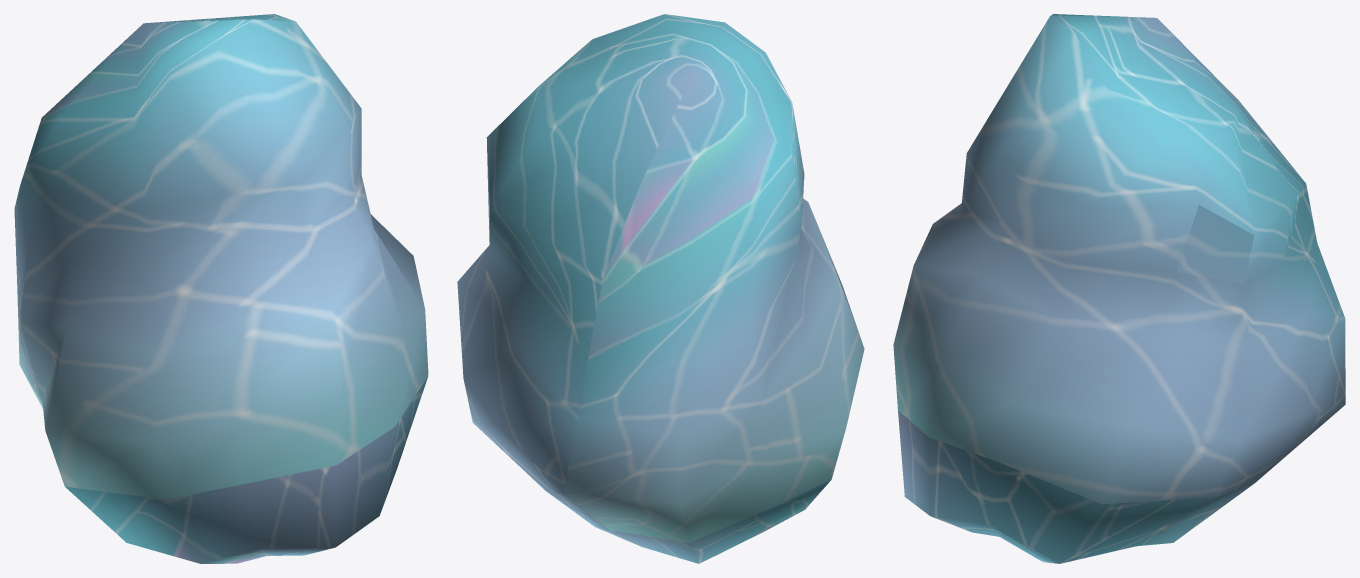
File: rock1.fbx
The picture shows the model from 3 angles, left to right: view 1: azimuth 30°, elevation 25°; view 2: azimuth 150°, elevation 25°; view 3: azimuth 270°, elevation 25°; orthographic projection. The views are drawn at different scales.
Parts seen in each view (by area): view 1: rock1; view 2: rock1; view 3: rock1.
Boxes of the visible parts, x1,y1,x2,y2 form: rock1: (14,14,428,563); rock1: (457,14,864,563); rock1: (893,14,1345,563).
Size of the model in its own units: 2.52 by 3.25 by 2.57.
1 material, 1 textured.
